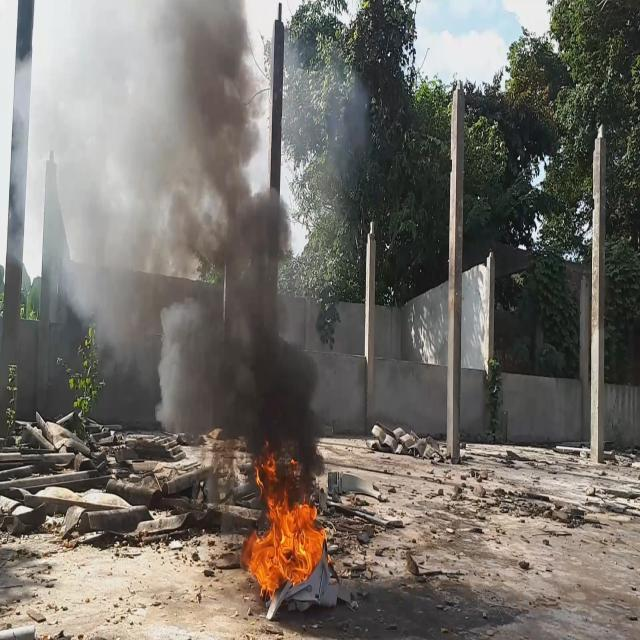Fire: (242, 488, 328, 598)
Smoke: (18, 0, 330, 506)
